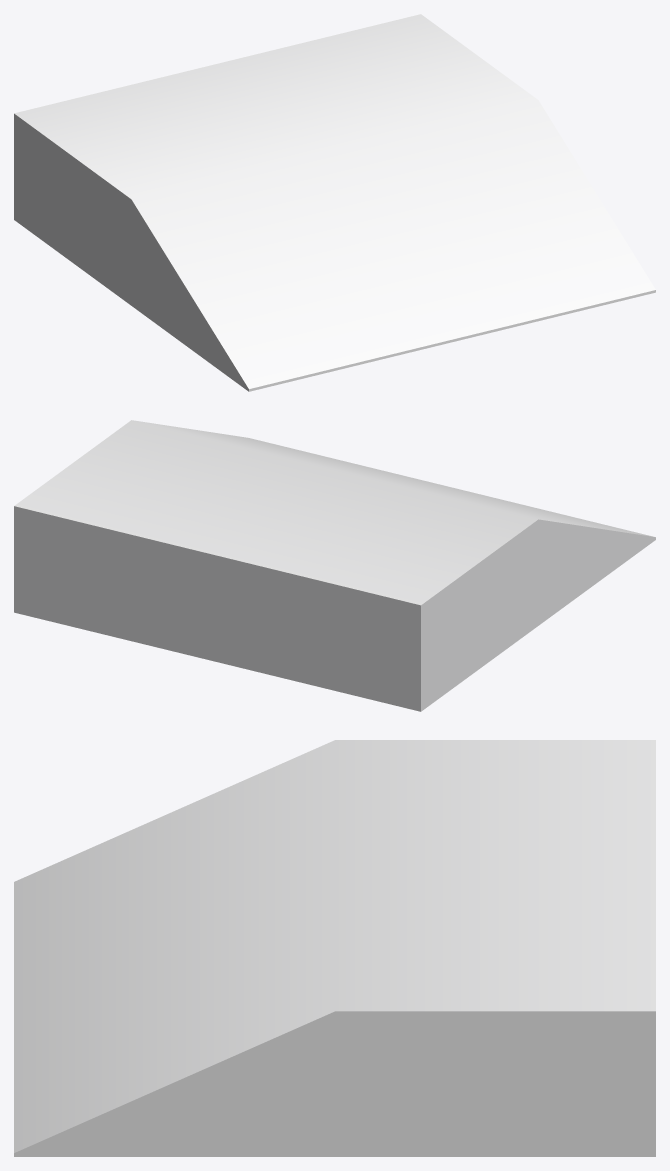
File: uniformedTile-13_col.fbx
3 renders of one model, top to bottom at view 1: azimuth 30°, elevation 25°; view 2: azimuth 150°, elevation 25°; view 3: azimuth 270°, elevation 25°, orthographic. The views are drawn at different scales.
Visible parts, largest first — view 1: uniformedTile-13.col; view 2: uniformedTile-13.col; view 3: uniformedTile-13.col.
Part boxes in pixels (x1=…): uniformedTile-13.col: x1=14, y1=14, x2=655, y2=391; uniformedTile-13.col: x1=14, y1=420, x2=655, y2=711; uniformedTile-13.col: x1=14, y1=740, x2=655, y2=1156.
Bounding box in the file's own units: 2 × 0.5 × 2.
1 material, 1 textured.
